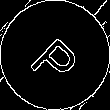P_NE: (24, 24, 86, 86)
